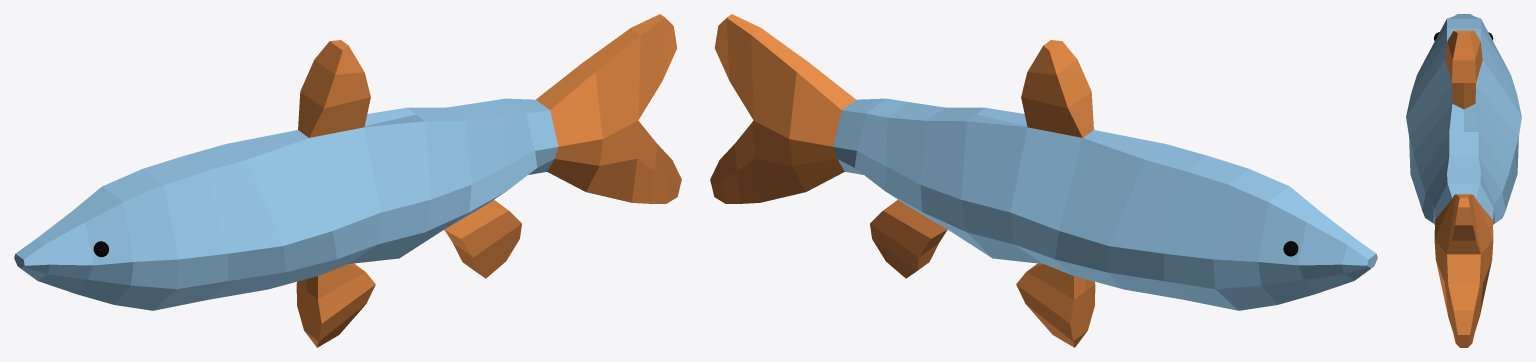
The model's file is fish.glb.
3 views of the same model, side by side, from view 1: azimuth 30°, elevation 25°; view 2: azimuth 150°, elevation 25°; view 3: azimuth 270°, elevation 25° (orthographic). The views are drawn at different scales.
Parts seen in each view (by area): view 1: Plane; view 2: Plane; view 3: Plane.
Part boxes in pixels (bbox=[...]): Plane: bbox=[14, 14, 681, 347]; Plane: bbox=[710, 14, 1377, 347]; Plane: bbox=[1406, 14, 1521, 347].
Size of the model in its own units: 4.75 by 2.06 by 0.908.
